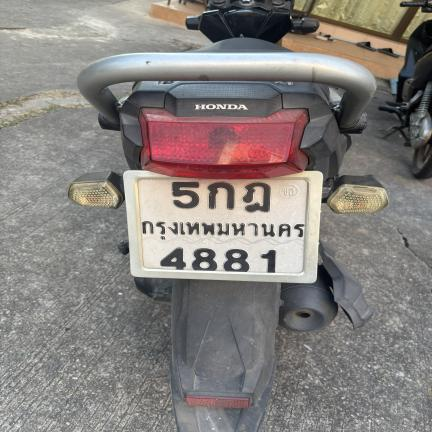1: (256, 248, 281, 273)
4: (154, 244, 187, 270)
5: (170, 182, 200, 209)
8: (220, 246, 251, 272), (191, 244, 218, 272)
A01: (204, 181, 236, 211)
A14: (240, 181, 275, 213), (240, 181, 272, 214)
BKK: (140, 217, 307, 242)
